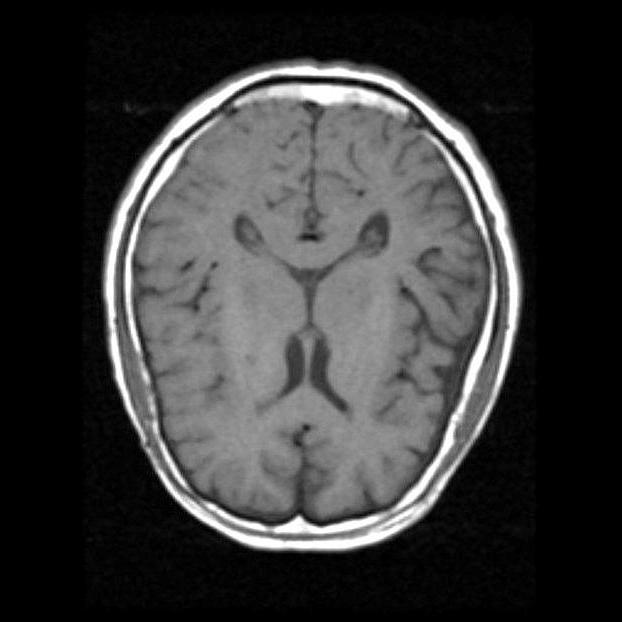Normal_Brain: (82, 1, 622, 622)
